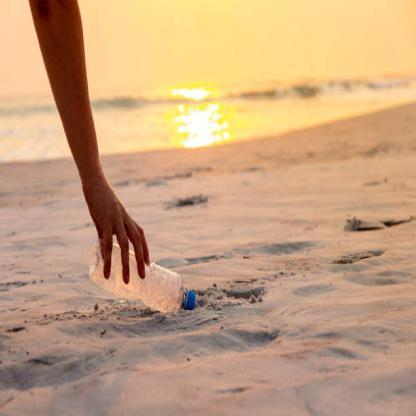plastic bottle: (87, 241, 196, 314)
